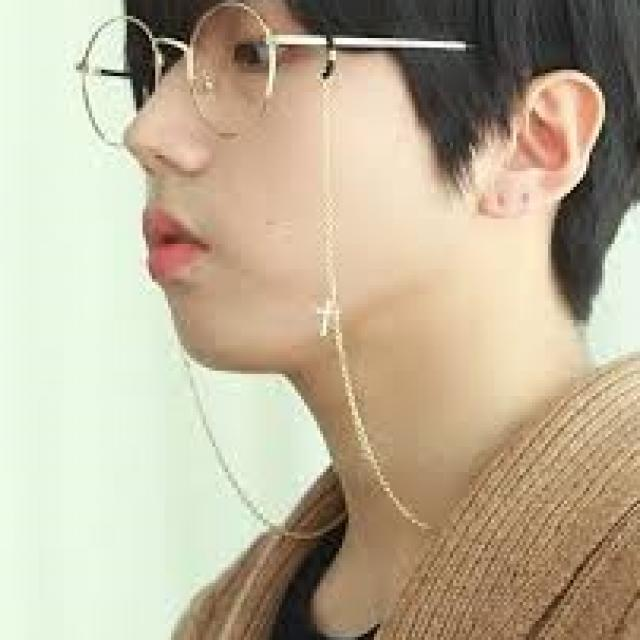Glasses: (63, 0, 494, 165)
